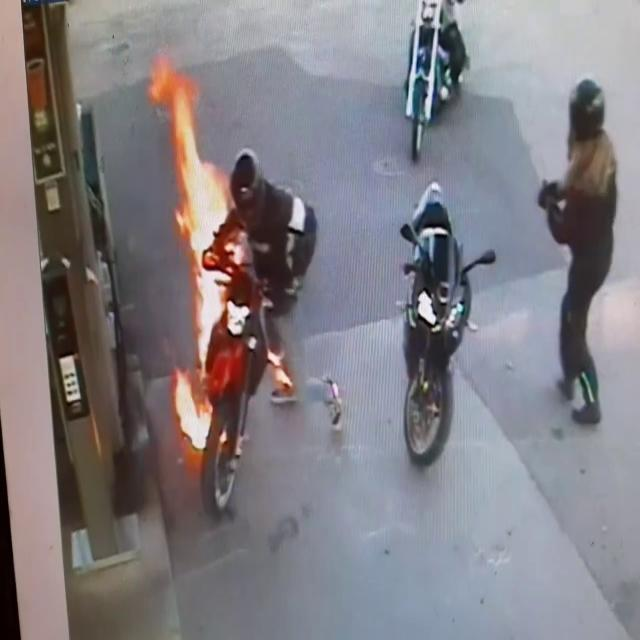Fire: (151, 43, 305, 457)
